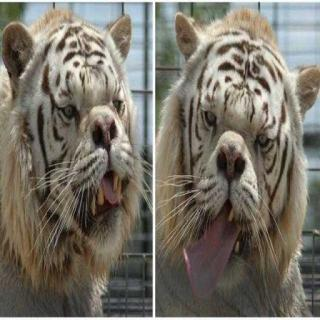Tiger: (166, 12, 314, 310), (0, 7, 141, 318)
